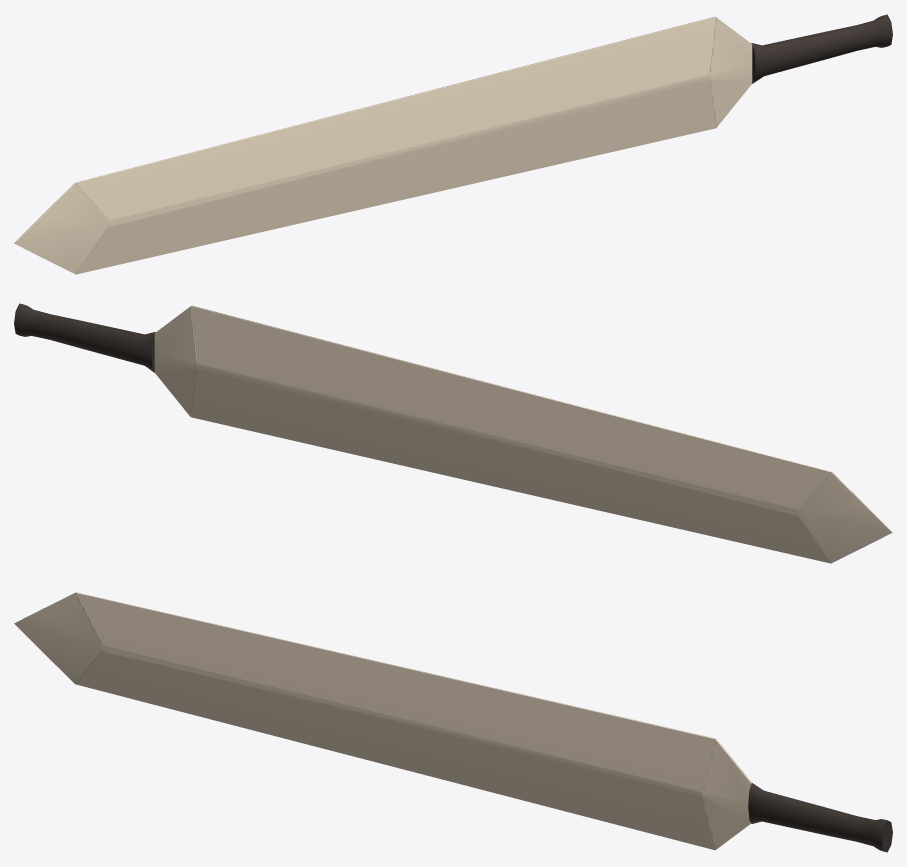
The model's file is Emiya_big_blade_2.fbx.
3 views of the same model, one above another, from view 1: azimuth 30°, elevation 25°; view 2: azimuth 150°, elevation 25°; view 3: azimuth 330°, elevation 25° (orthographic).
Visible parts, largest first — view 1: Emiya_big_blade_2; view 2: Emiya_big_blade_2; view 3: Emiya_big_blade_2.
Boxes of the visible parts, left/top/right/bottom form: Emiya_big_blade_2: left=14, top=14, right=892, bottom=274; Emiya_big_blade_2: left=14, top=303, right=892, bottom=563; Emiya_big_blade_2: left=14, top=592, right=892, bottom=852.
Bounding box in the file's own units: 362 × 43.94 × 7.97.
Materials: 1 (1 with a texture image).
